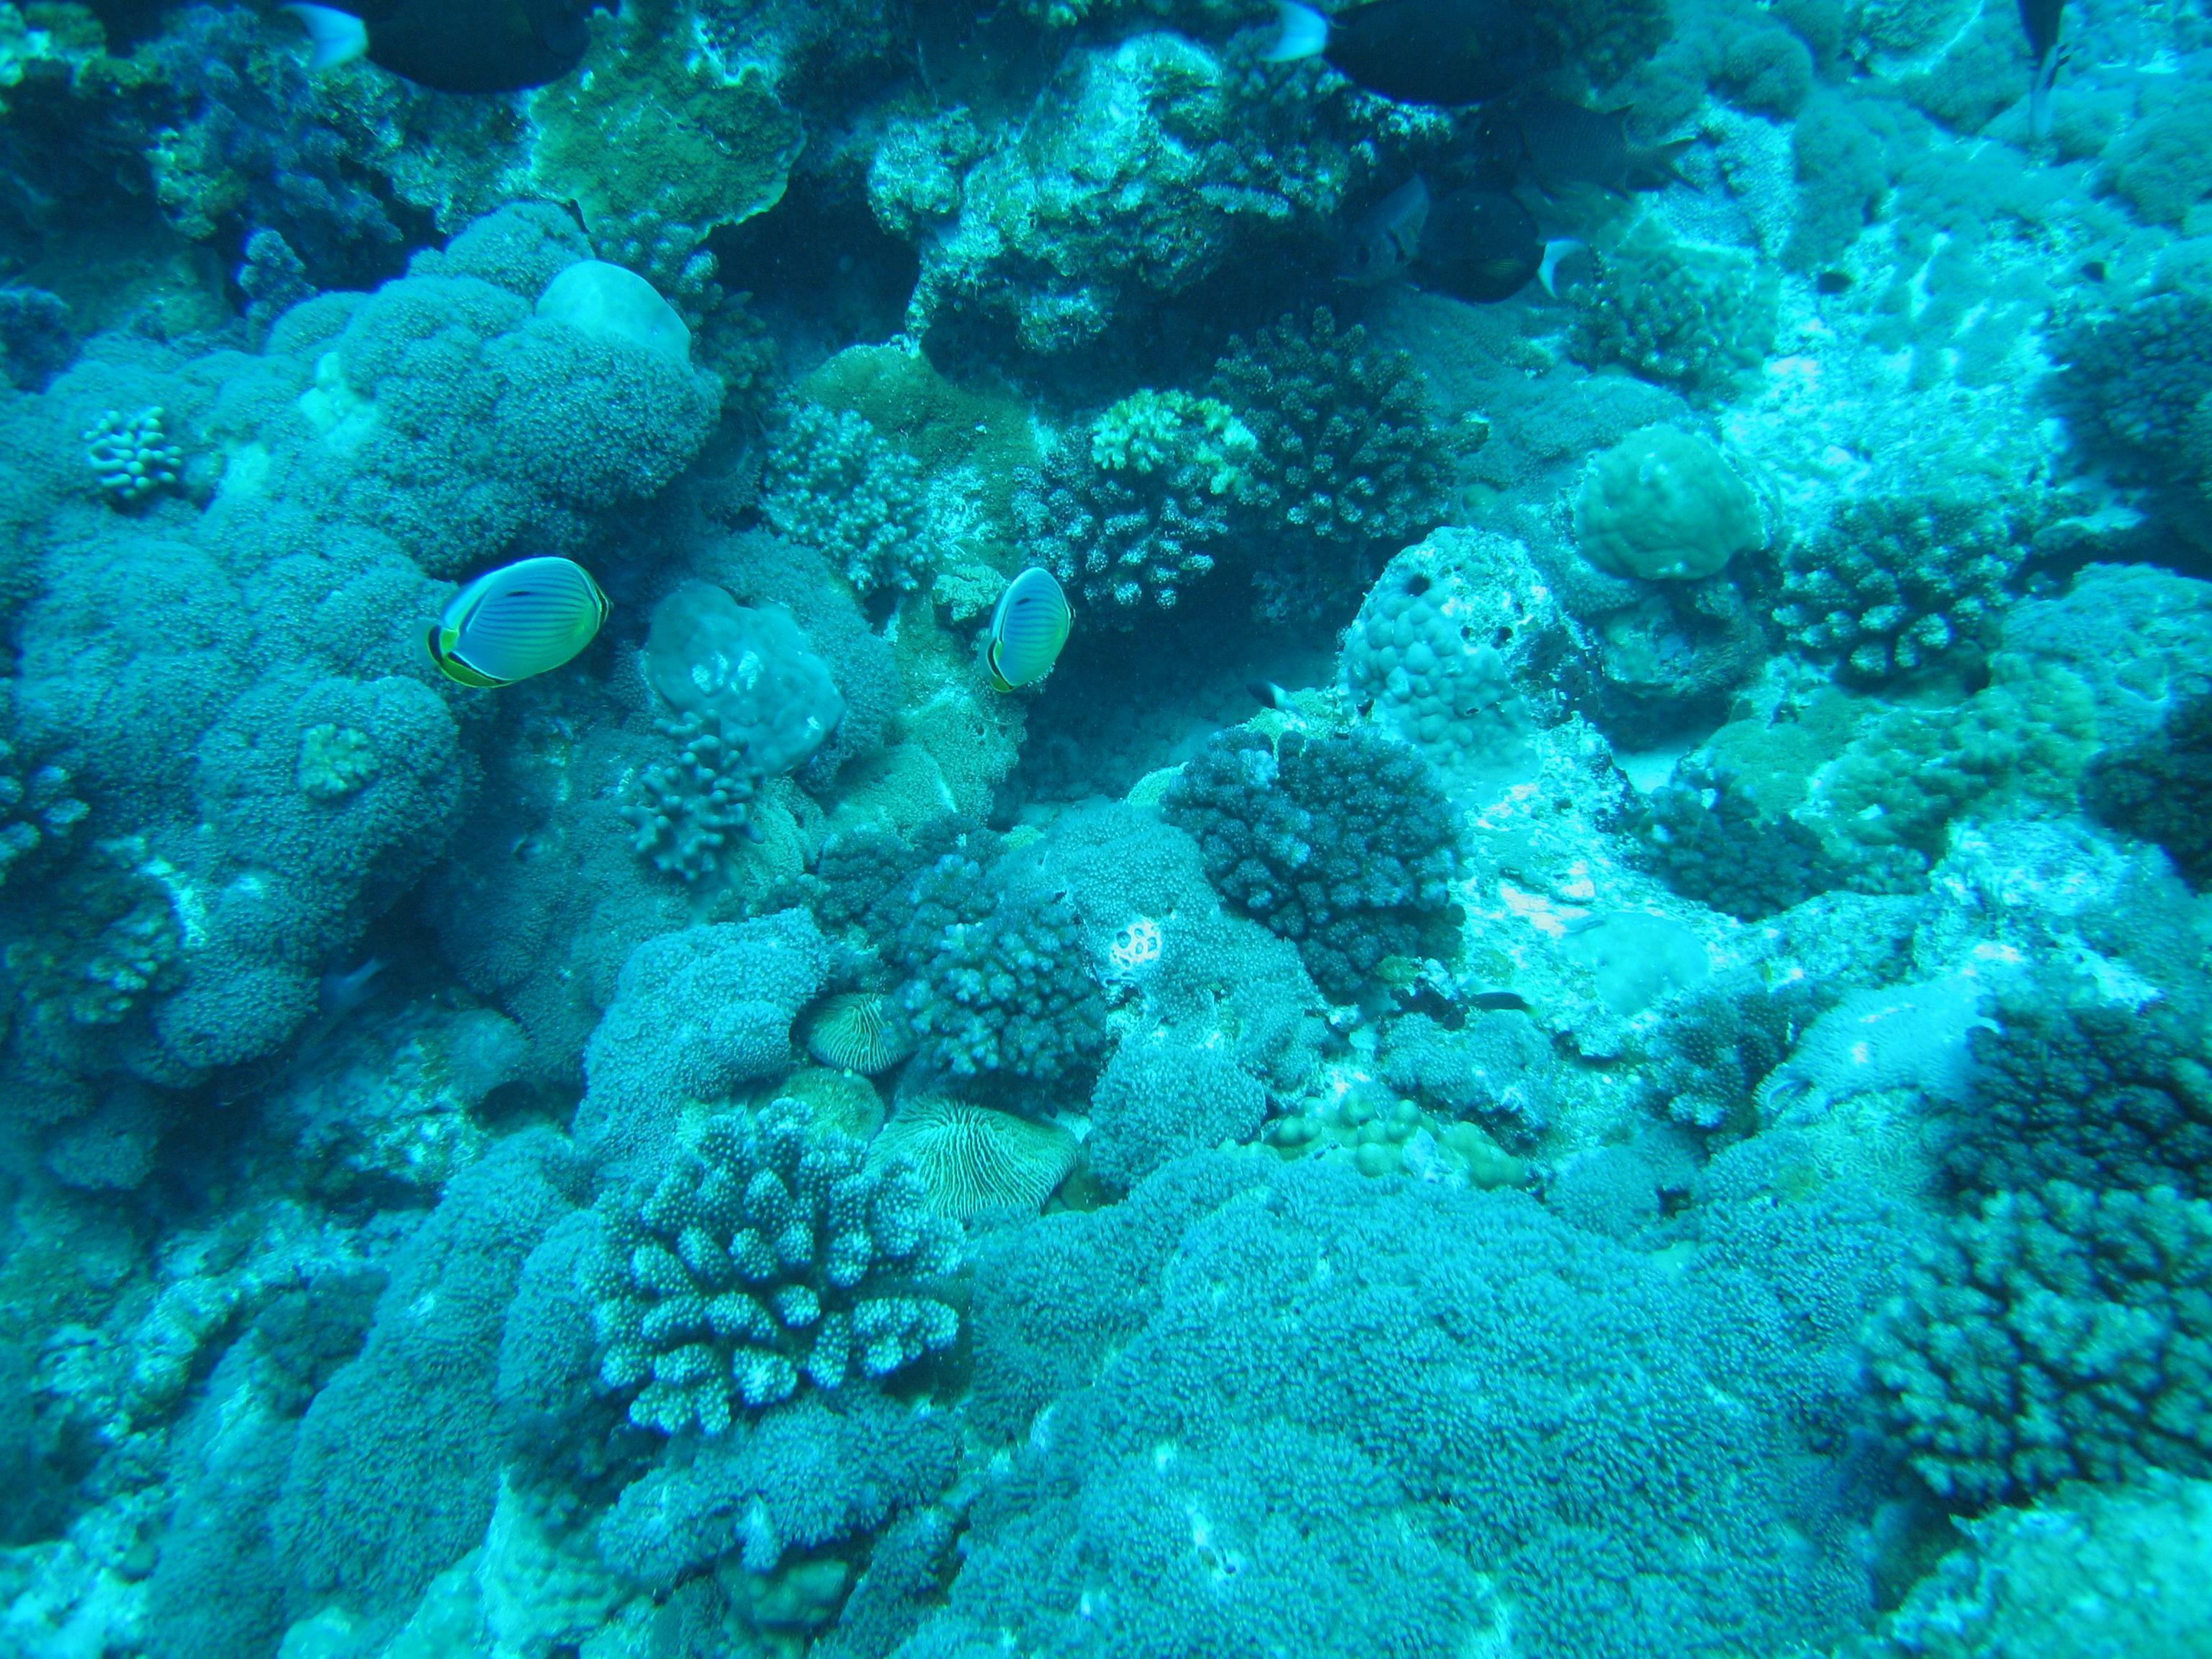Chaetodon trifasciatus: (408, 523, 650, 751), (958, 559, 1125, 711)
